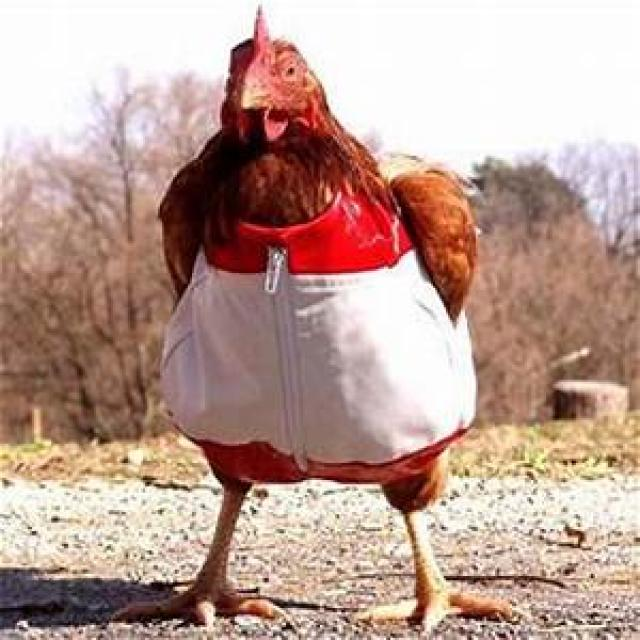hen: (119, 15, 510, 629)
